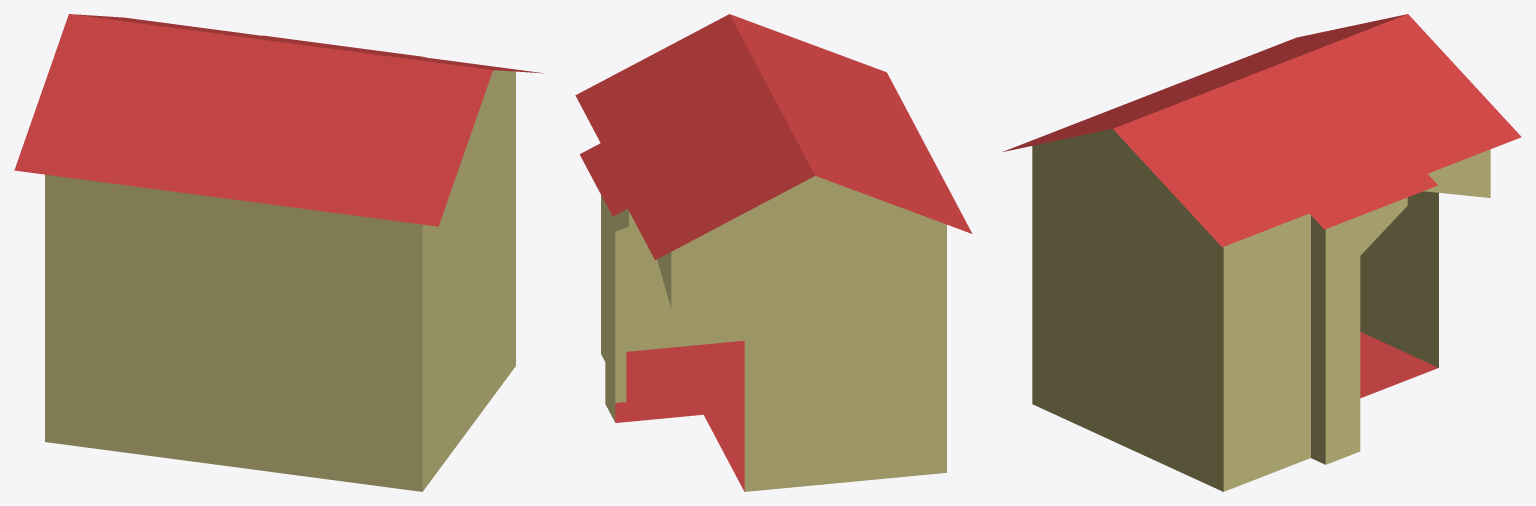
3 views of the same model, side by side, from view 1: azimuth 30°, elevation 25°; view 2: azimuth 150°, elevation 25°; view 3: azimuth 270°, elevation 25° (orthographic). The views are drawn at different scales.
Visible parts, largest first — view 1: group_5, group_3, group_4; view 2: group_5, group_3, group_6, group_4; view 3: group_5, group_3, group_4, group_6.
Part boxes in pixels (x1,y1,x2,y2): group_5: [45, 70, 515, 491]; group_3: [31, 14, 543, 226]; group_4: [14, 14, 492, 226]; group_5: [601, 176, 946, 491]; group_3: [575, 14, 946, 259]; group_6: [615, 340, 744, 491]; group_4: [580, 14, 972, 260]; group_5: [1032, 129, 1490, 491]; group_3: [1034, 14, 1490, 247]; group_4: [1002, 14, 1521, 229]; group_6: [1360, 332, 1438, 398].
Size of the model in its own units: 17.43 by 17.72 by 12.25.
